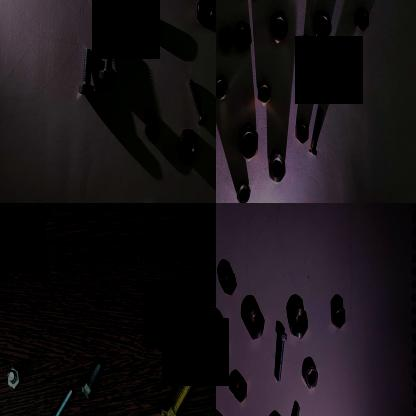Bolts: (157, 373, 195, 416), (99, 28, 119, 96), (76, 41, 98, 99), (78, 360, 106, 404), (293, 32, 313, 90), (187, 74, 208, 126), (308, 104, 326, 156), (272, 324, 286, 388), (48, 384, 73, 416), (4, 358, 23, 392), (126, 191, 162, 203), (283, 397, 303, 416)
NUTS: (268, 4, 288, 46), (288, 300, 308, 342), (313, 6, 334, 44), (245, 305, 267, 341), (178, 128, 200, 162), (330, 297, 352, 331), (140, 112, 162, 145), (352, 2, 372, 38), (193, 0, 216, 30), (240, 122, 258, 160), (266, 151, 286, 185), (144, 14, 164, 46), (222, 265, 241, 297), (235, 21, 253, 54), (216, 25, 233, 55), (328, 66, 346, 94), (216, 315, 230, 349), (232, 378, 250, 404), (304, 362, 320, 390), (235, 176, 251, 203), (296, 115, 309, 146), (216, 71, 228, 103), (257, 83, 269, 109)
